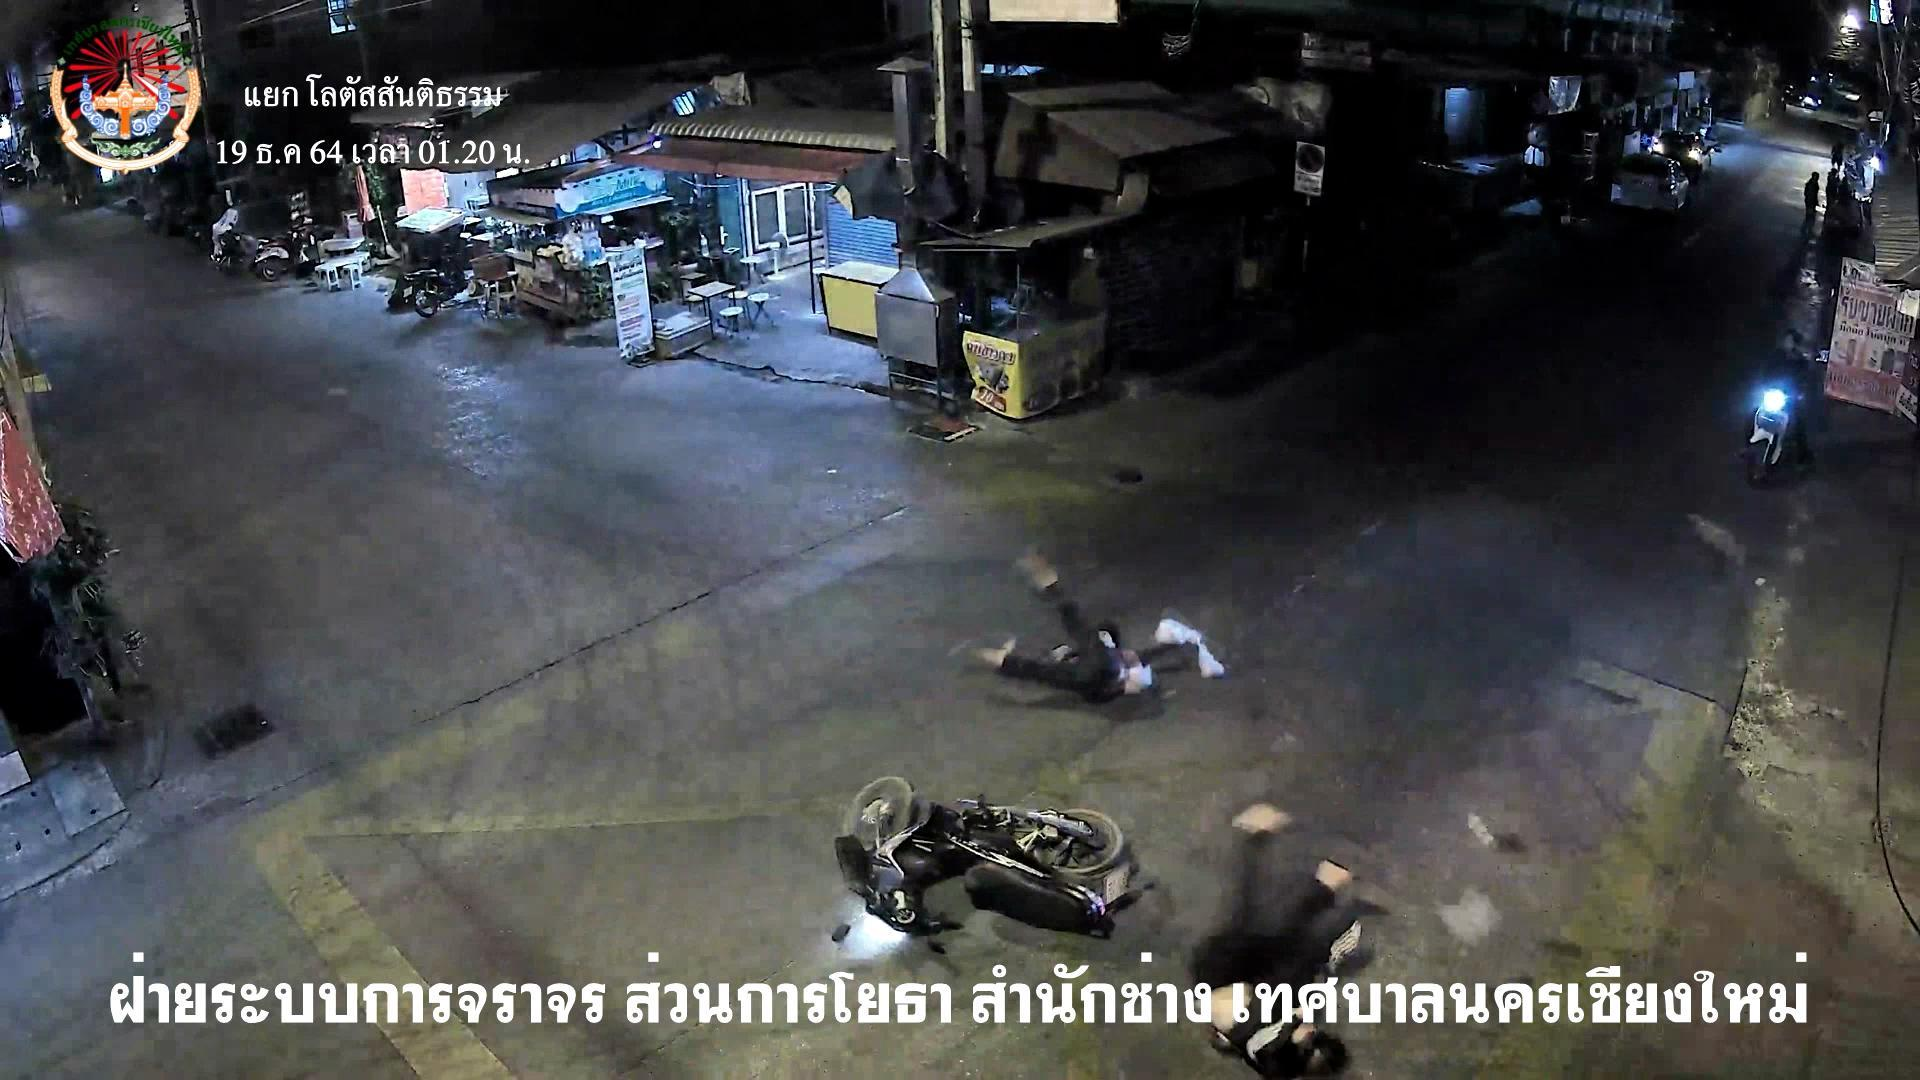accident: (952, 554, 1200, 713)
